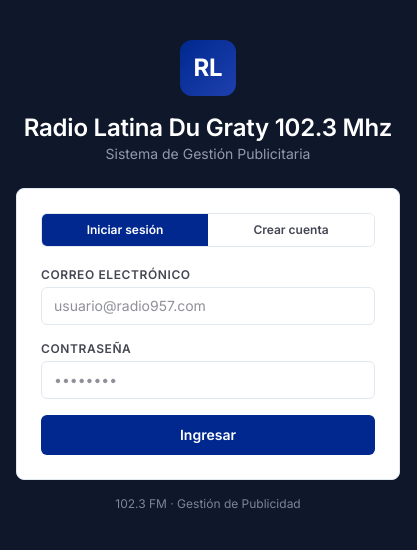
Test: Auth page › muestra error en español cuando falla el login con credenciales inválidas
Type "user@radio957.com" into the field labelled "Correo electrónico" at point(208, 306), box [41,287,375,325]
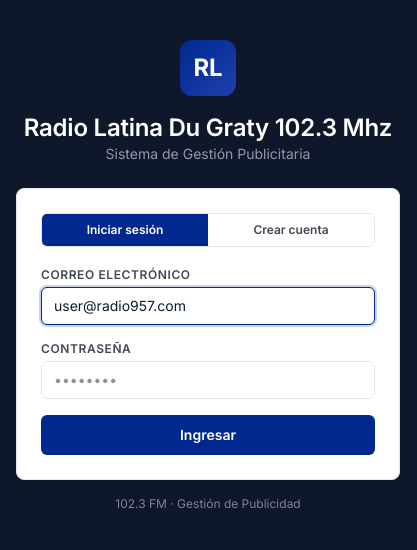
Type "secreto123" into the password field labelled "Contraseña" at point(208, 380), box [41,361,375,399]
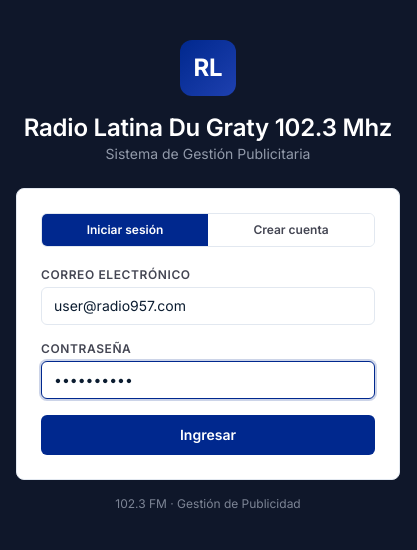
Click the button "Ingresar" at point(208, 435), box [41,415,375,455]
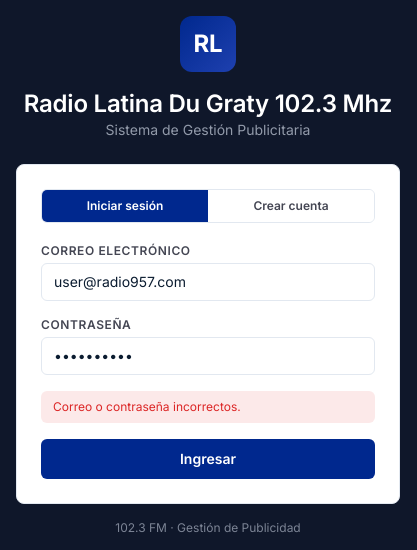
Expected: the text "Correo o contraseña incorrectos." is shown, [41,391,375,423]
